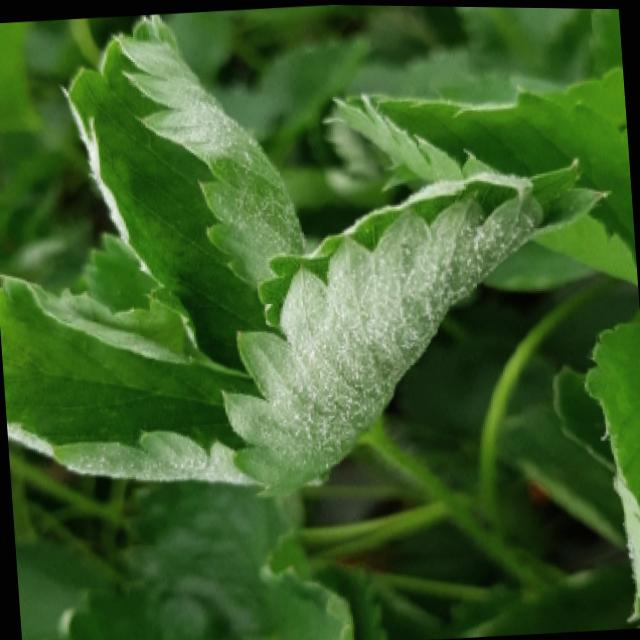Powdery Mildew Leaf: (220, 151, 612, 496), (56, 12, 306, 371), (0, 271, 263, 485), (583, 316, 640, 619)
